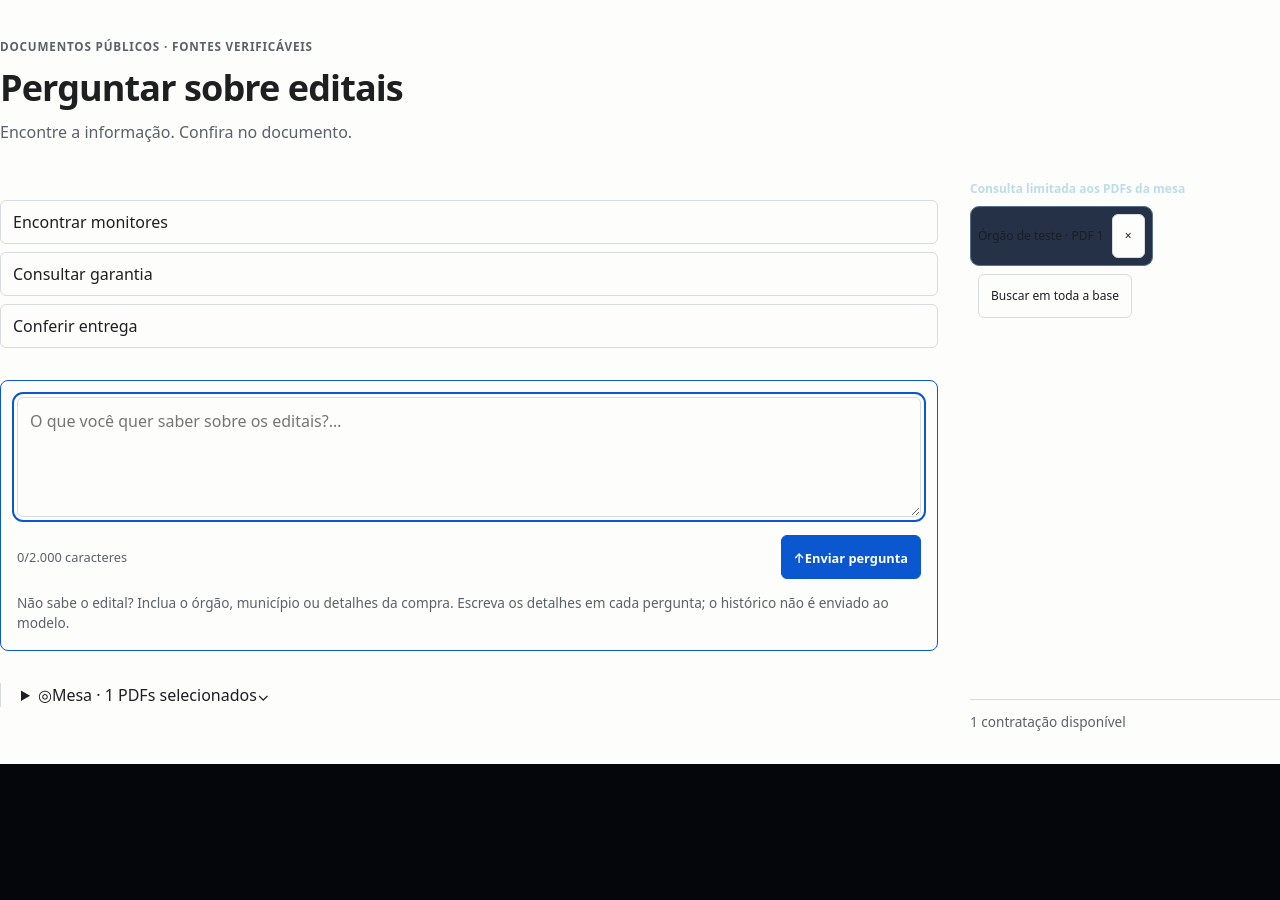
Scenario: recebe seleção da mesa e envia somente o escopo dos arquivos
Expected: the text "1 contratação disponível" is shown, [970,712,1126,731]
Expected: the text "Consulta limitada aos PDFs da mesa" is shown, [970,180,1185,197]
Type "Qual garantia?" into the text box named "Sua pergunta" at (469, 457), box [17,397,921,517]
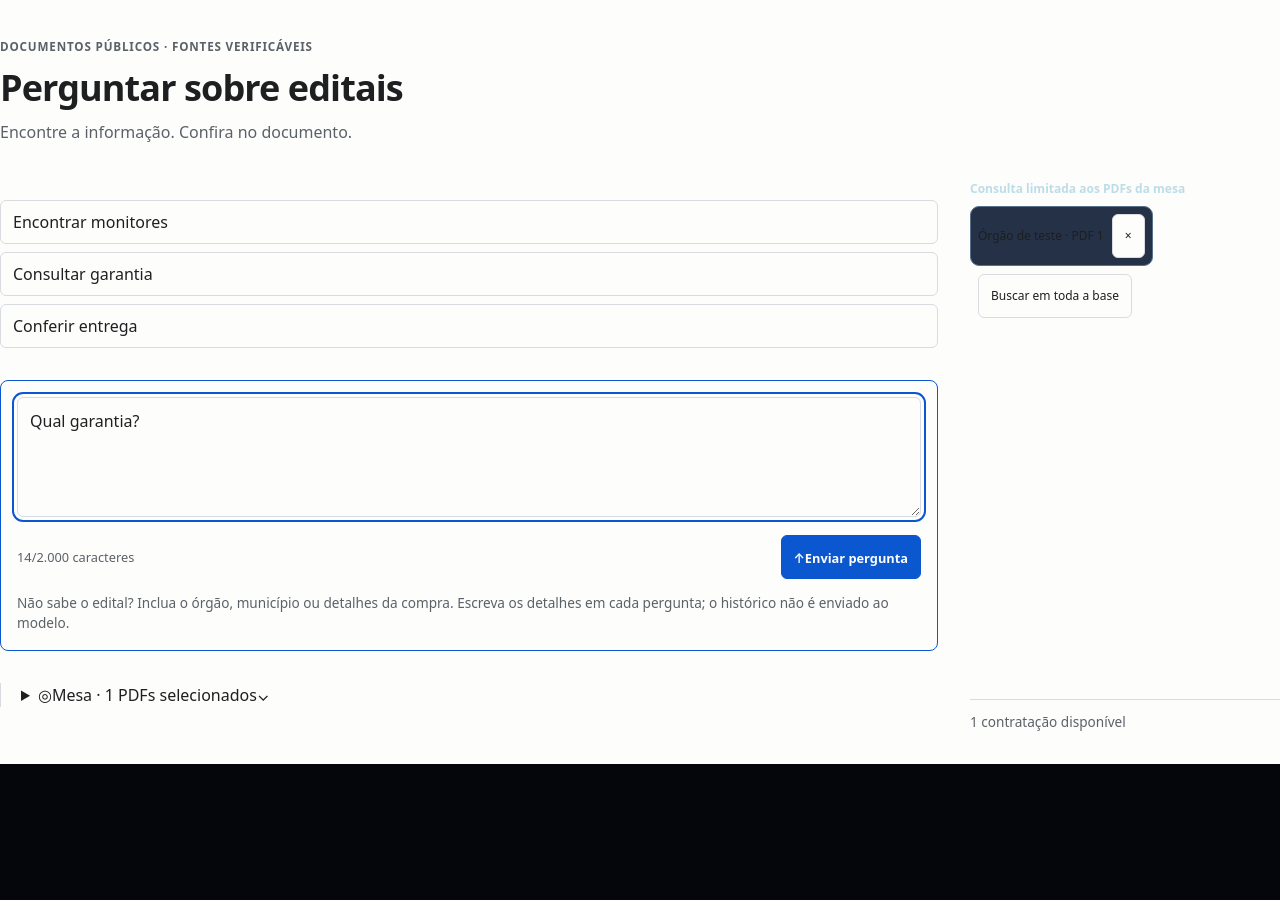
Click the button "↑Enviar pergunta" at (851, 557), box [780,535,921,579]
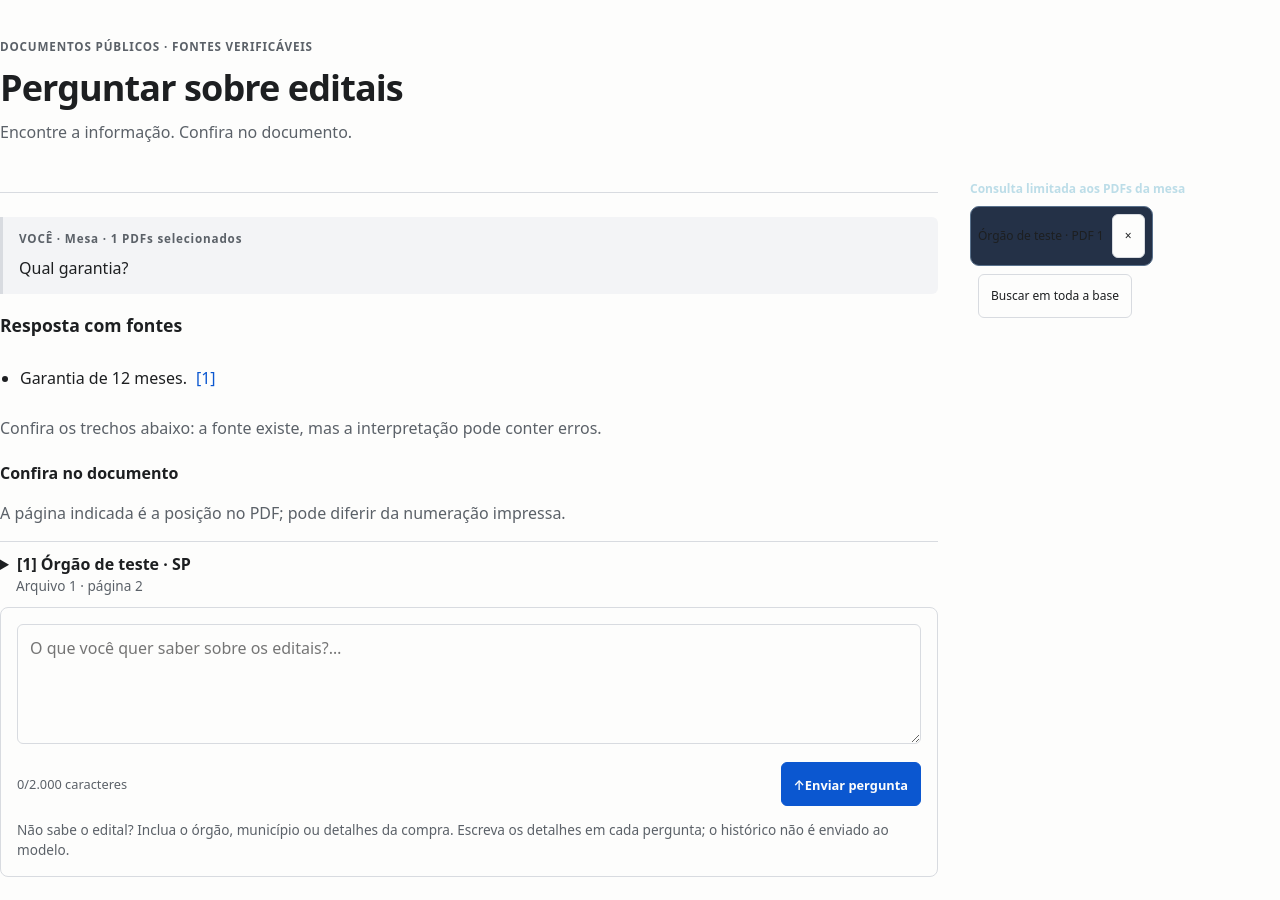
Result: the heading "Resposta com fontes" is shown at [0,313,182,337]
